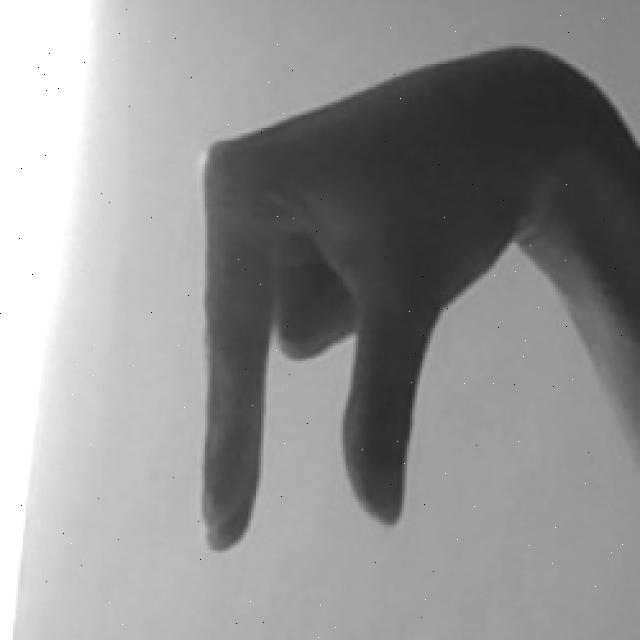Q: (189, 34, 640, 559)
